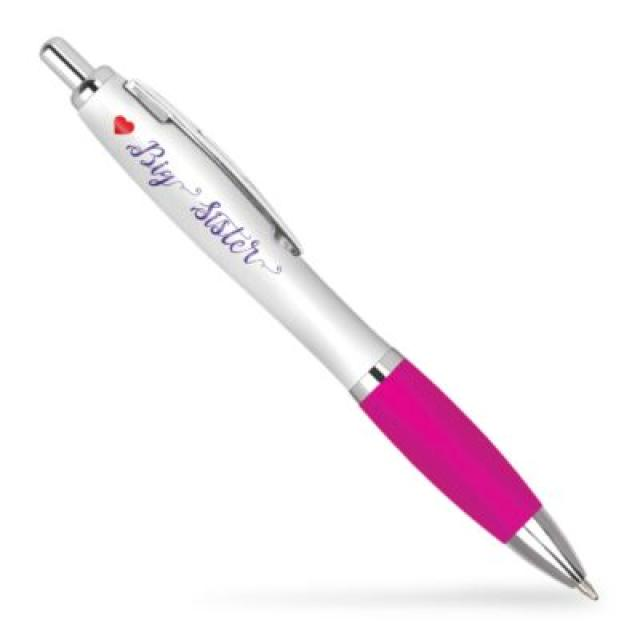pen: (14, 5, 634, 638)
